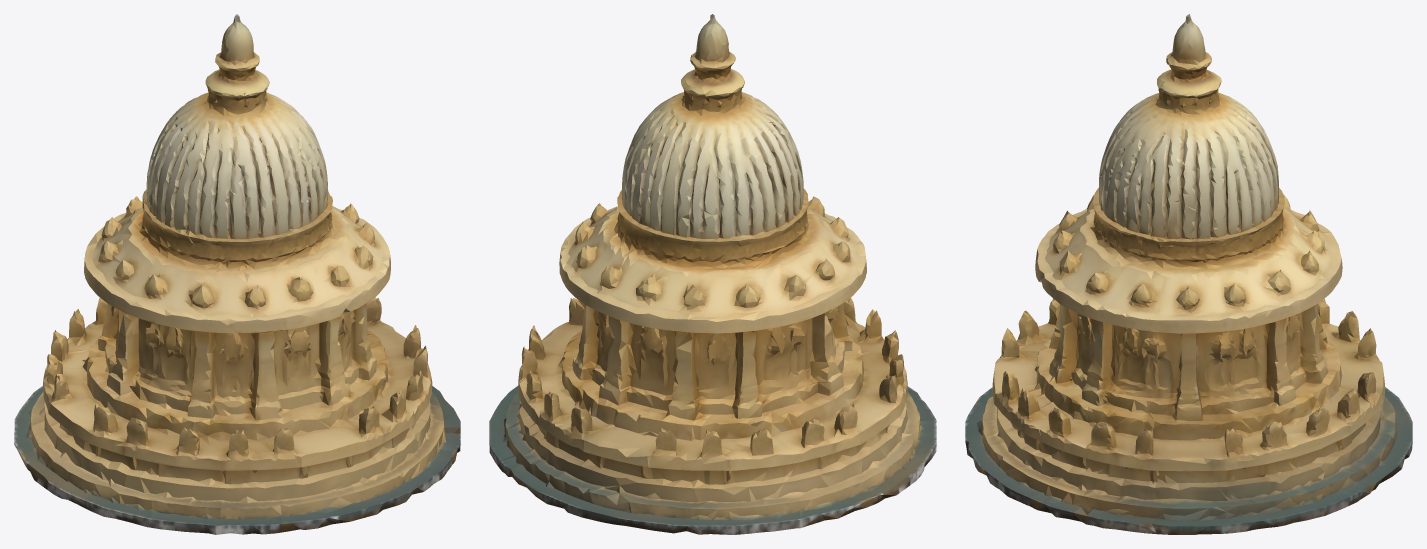
Rendered from india_stupa.glb.
3 views of the same model, side by side, from view 1: azimuth 30°, elevation 25°; view 2: azimuth 150°, elevation 25°; view 3: azimuth 270°, elevation 25° (orthographic).
Visible parts, largest first — view 1: india_stupa; view 2: india_stupa; view 3: india_stupa.
Boxes of the visible parts, bbox=[...] form: india_stupa: bbox=[14, 14, 460, 534]; india_stupa: bbox=[489, 14, 936, 534]; india_stupa: bbox=[965, 14, 1412, 534].
Size of the model in its own units: 1.76 by 1.9 by 1.76.
Materials: 1 (1 with a texture image).
